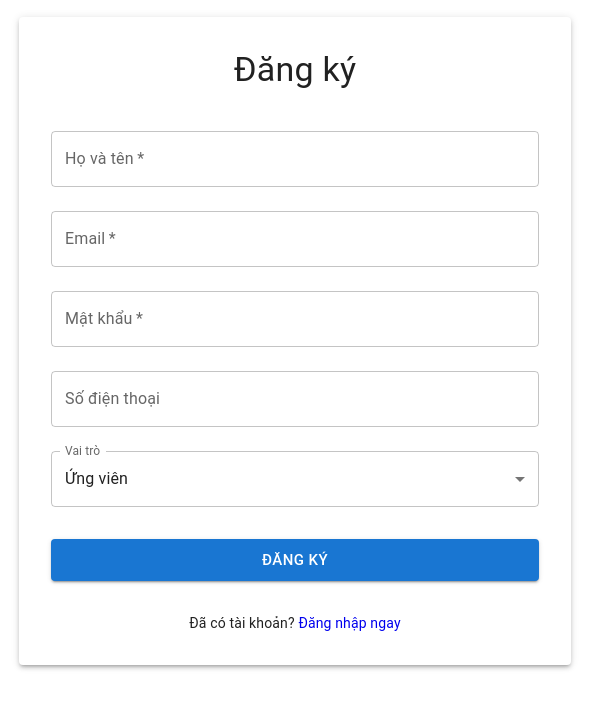
Scenario: RegisterPage - Error Handling & Validation › Client-side Validation › should display email validation error on blur with invalid email
The width and height of the screenshot is (591, 710).
Note: User enters invalid email and blurs
Type "invalid-email" into the field labelled "Email *" at [295, 239], box [51, 211, 539, 267]
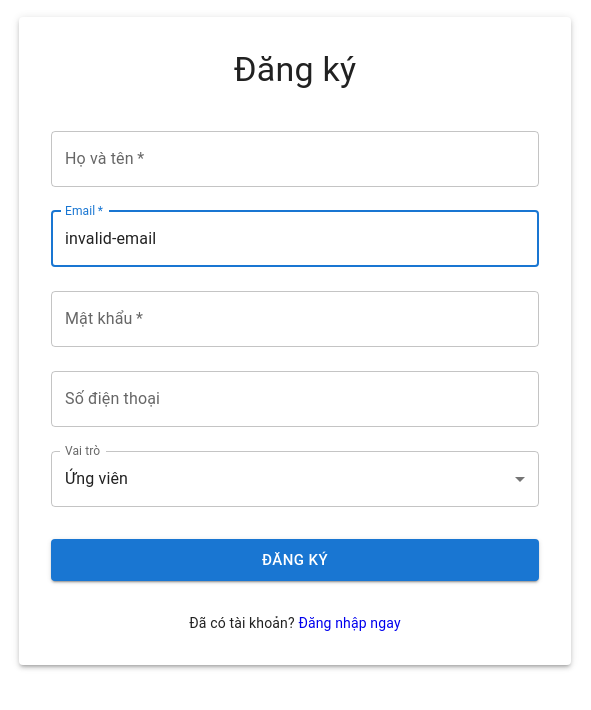
Leave the field labelled "Email *", box [51, 211, 539, 267]
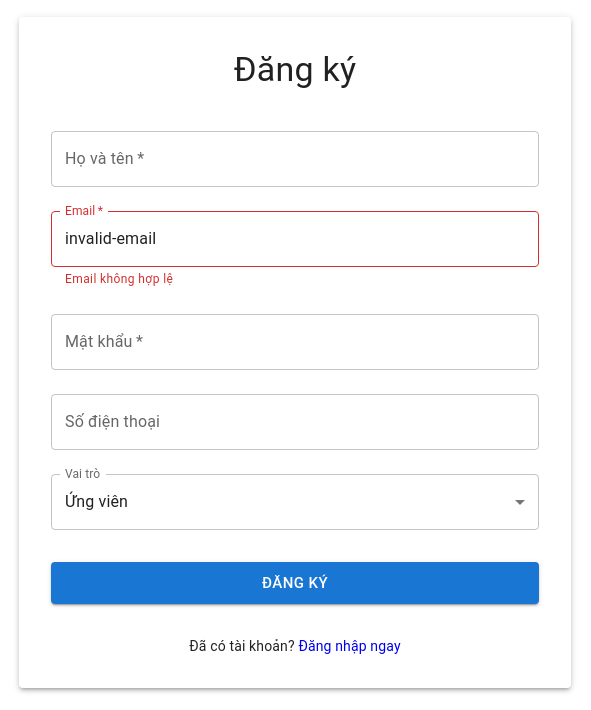
Now the text "Email không hợp lệ" is shown, box [65, 272, 173, 286]
